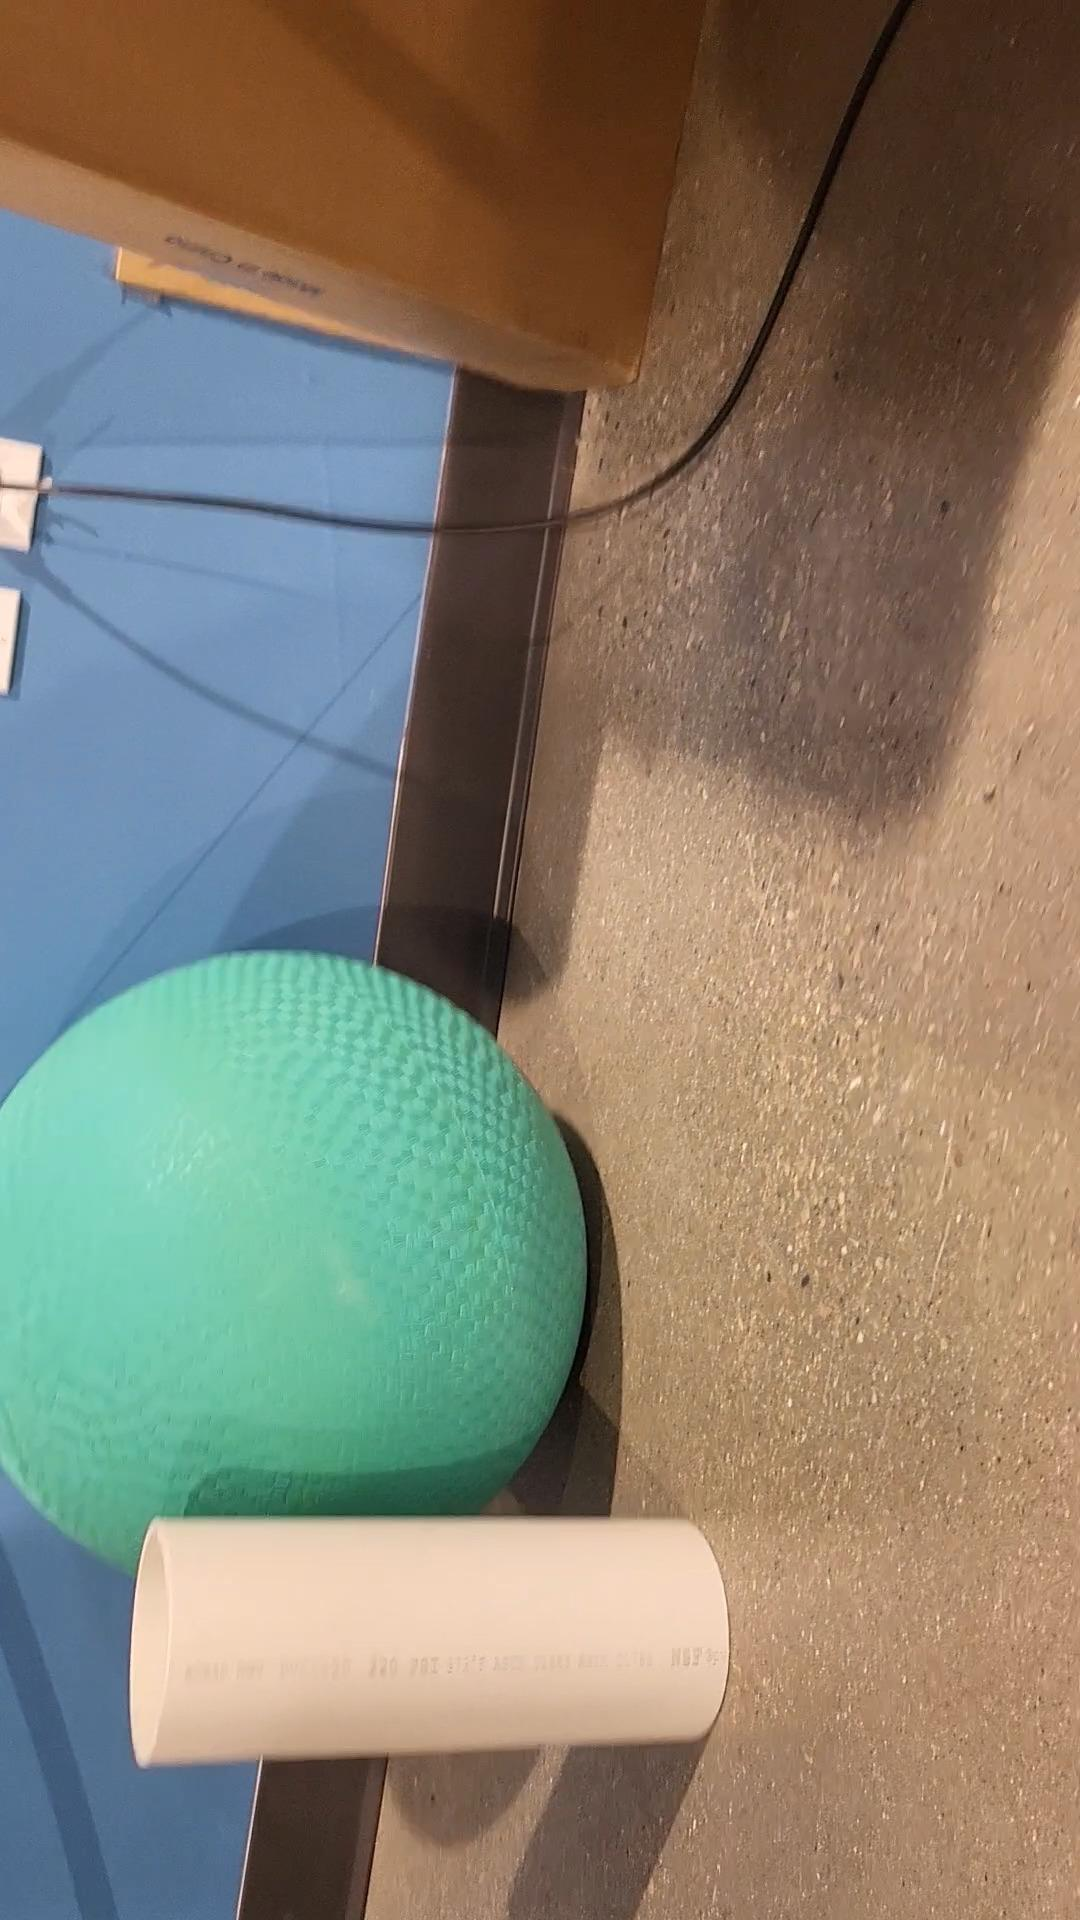algae: (0, 953, 585, 1584)
coral: (131, 1519, 729, 1770)
